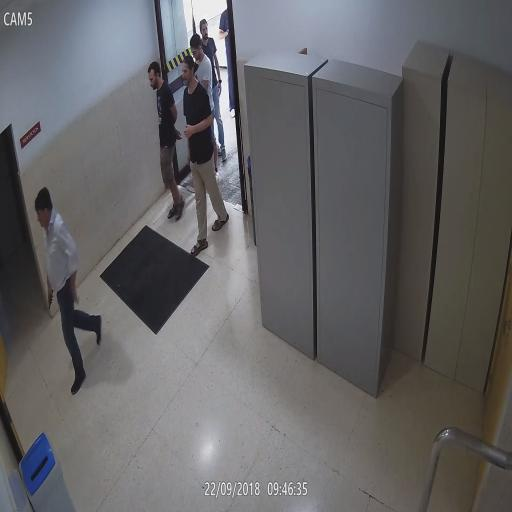Handgun: (46, 287, 54, 311)
